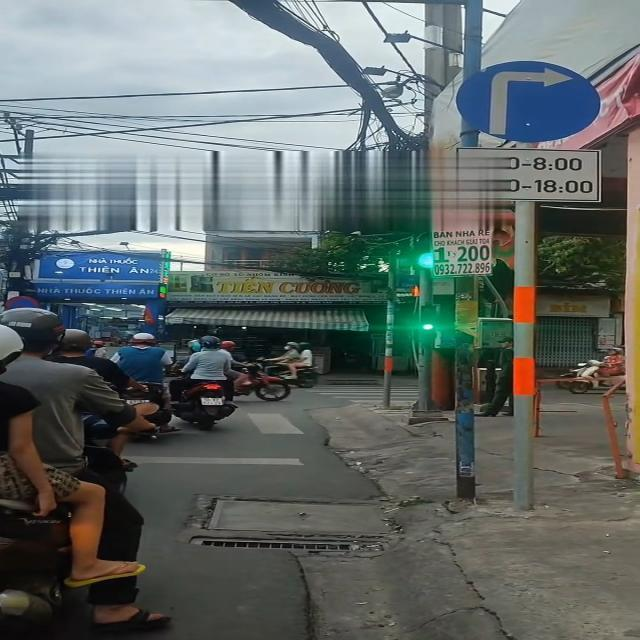301d-cac-xe-chi-duoc-re-phai-2: (452, 58, 607, 142)
